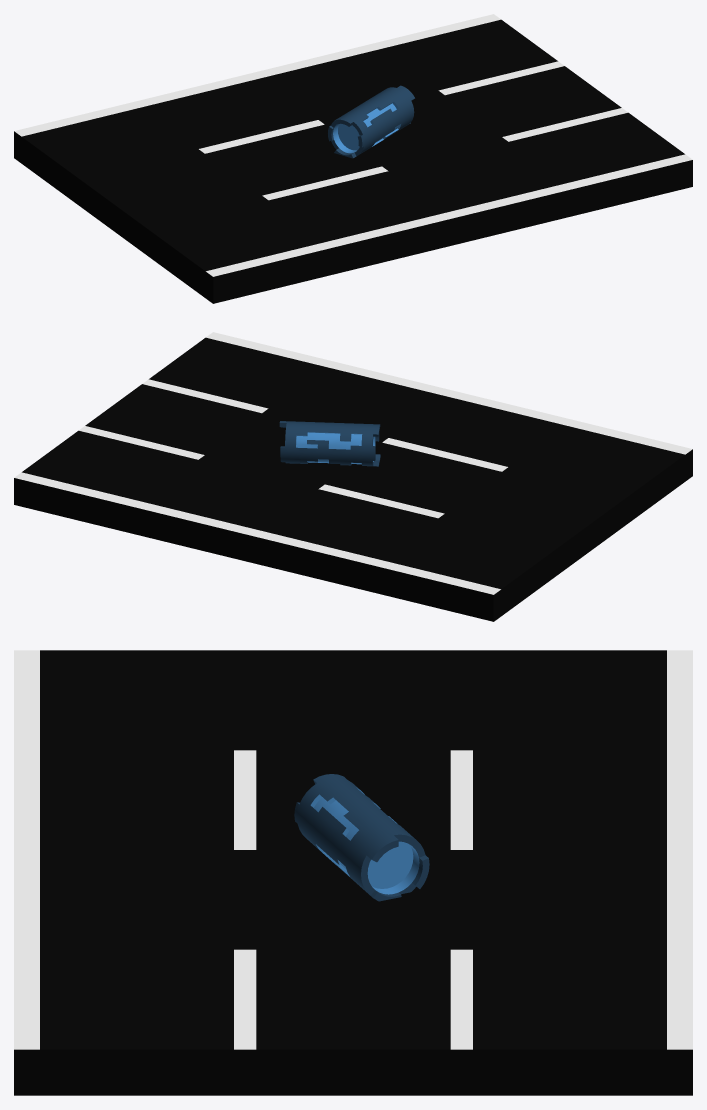
The model's file is Route Tronc V2.fbx.
The picture shows the model from 3 angles, top to bottom: view 1: azimuth 30°, elevation 25°; view 2: azimuth 150°, elevation 25°; view 3: azimuth 270°, elevation 25°; orthographic projection. The views are drawn at different scales.
Visible parts, largest first — view 1: Route Tronc V2; view 2: Route Tronc V2; view 3: Route Tronc V2.
Part boxes in pixels (left/top/right/bottom): Route Tronc V2: left=14, top=14, right=692, bottom=303; Route Tronc V2: left=14, top=332, right=692, bottom=621; Route Tronc V2: left=14, top=650, right=692, bottom=1095.
Size of the model in its own units: 501 by 62.35 by 360.
